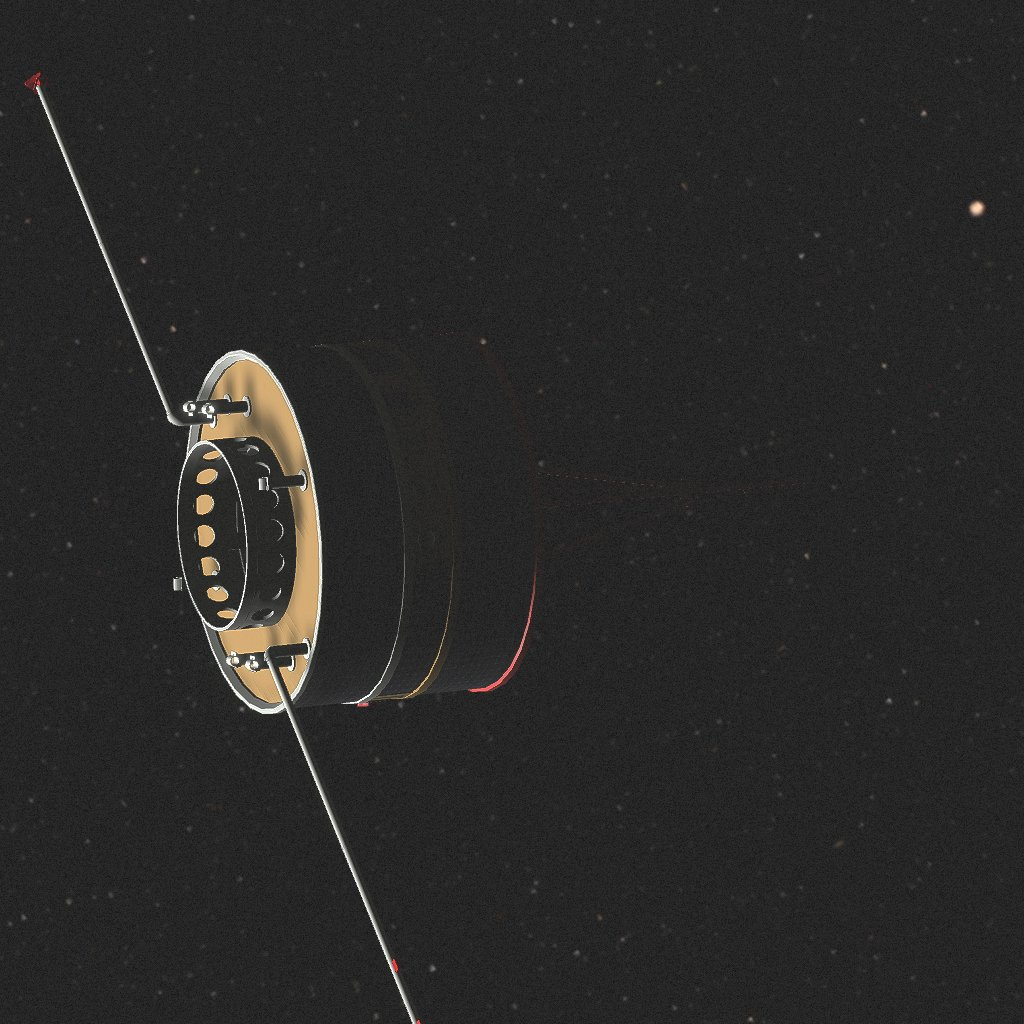double_star: (25, 72, 810, 1024)
